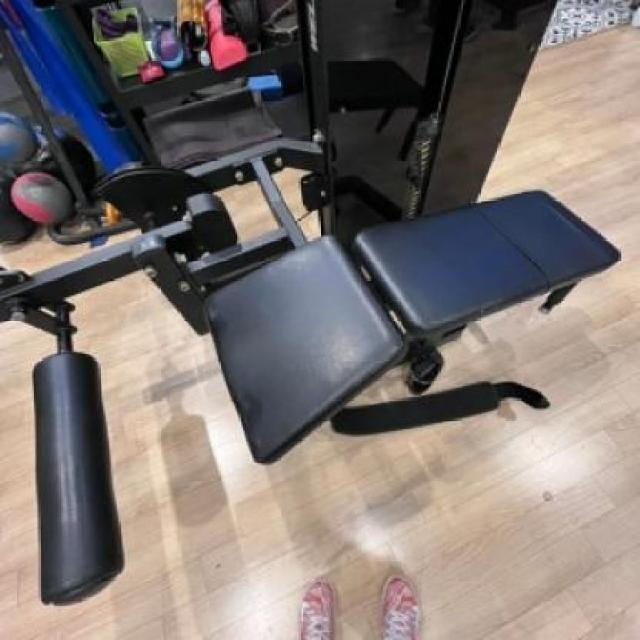reg curl machine: (0, 0, 629, 608)
